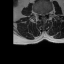CCS_stenosis: (42, 10, 44, 19)
LFS_stenosis: (46, 10, 48, 16)
LLS_stenosis: (44, 10, 46, 17)
RFS_stenosis: (38, 11, 40, 17)
RLS_stenosis: (40, 11, 42, 18)
